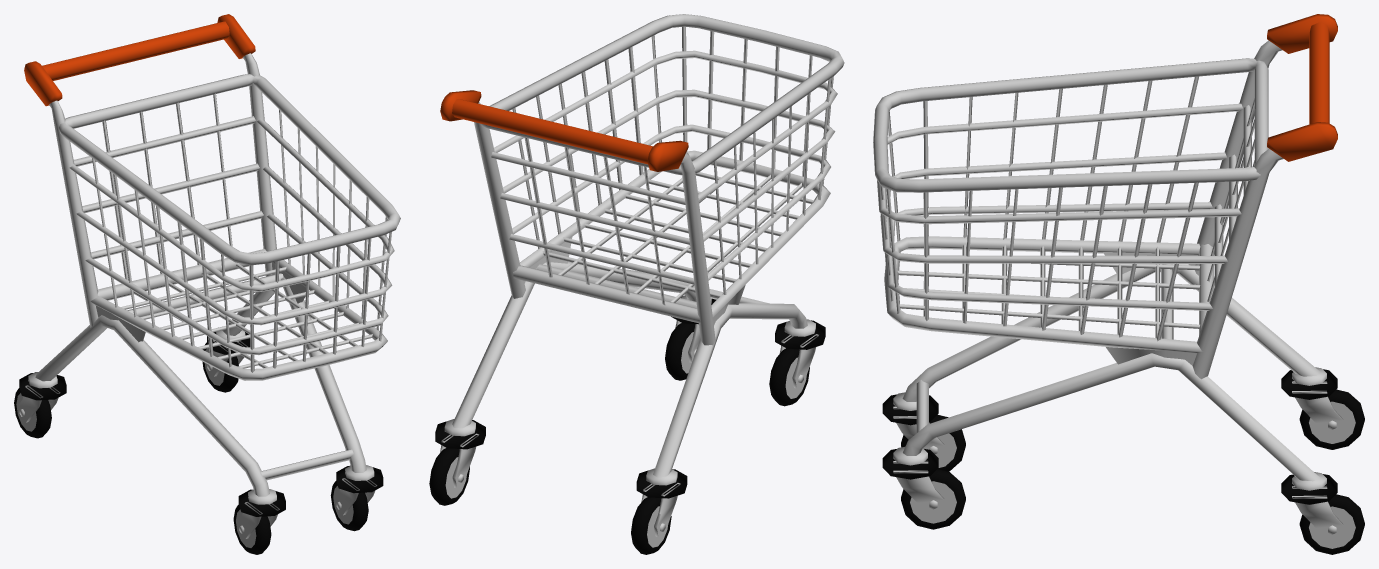
The model's file is walmart.fbx.
3 renders of one model, left to right at view 1: azimuth 30°, elevation 25°; view 2: azimuth 150°, elevation 25°; view 3: azimuth 270°, elevation 25°, orthographic. The views are drawn at different scales.
Parts seen in each view (by area): view 1: Obj3d66-12314968-2-939, Obj3d66-12314968-3-583, Obj3d66-12314968-4-217; view 2: Obj3d66-12314968-2-939, Obj3d66-12314968-4-217, Obj3d66-12314968-3-583; view 3: Obj3d66-12314968-2-939, Obj3d66-12314968-4-217, Obj3d66-12314968-3-583.
Boxes of the visible parts, x1,y1,x2,y2 form: Obj3d66-12314968-2-939: [16, 53, 400, 547]; Obj3d66-12314968-3-583: [24, 14, 255, 106]; Obj3d66-12314968-4-217: [14, 332, 383, 554]; Obj3d66-12314968-2-939: [440, 14, 844, 547]; Obj3d66-12314968-4-217: [429, 297, 825, 554]; Obj3d66-12314968-3-583: [440, 90, 688, 171]; Obj3d66-12314968-2-939: [873, 40, 1355, 548]; Obj3d66-12314968-4-217: [882, 369, 1364, 554]; Obj3d66-12314968-3-583: [1267, 14, 1337, 161].
Size of the model in its own units: 43.17 by 67.53 by 69.8.
